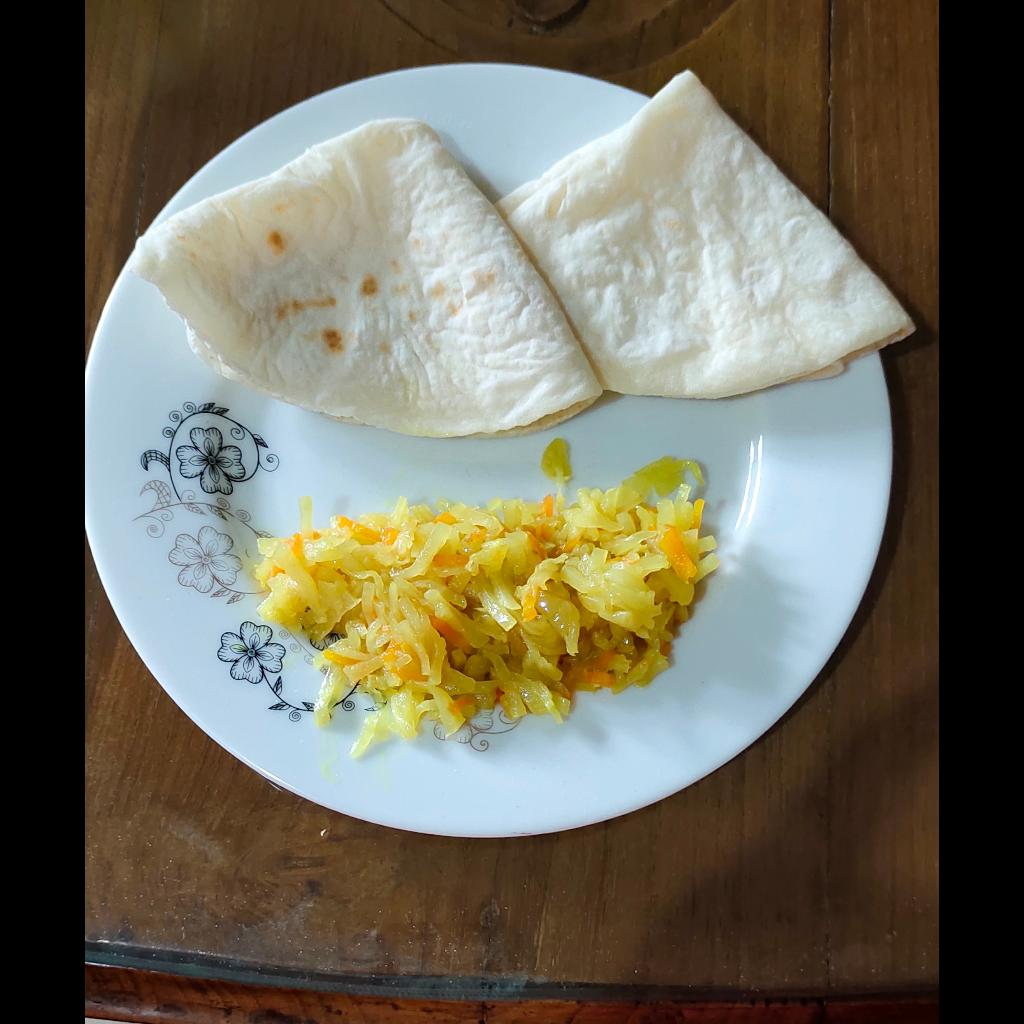ruti: (135, 67, 926, 450)
vaji: (253, 436, 722, 761)
